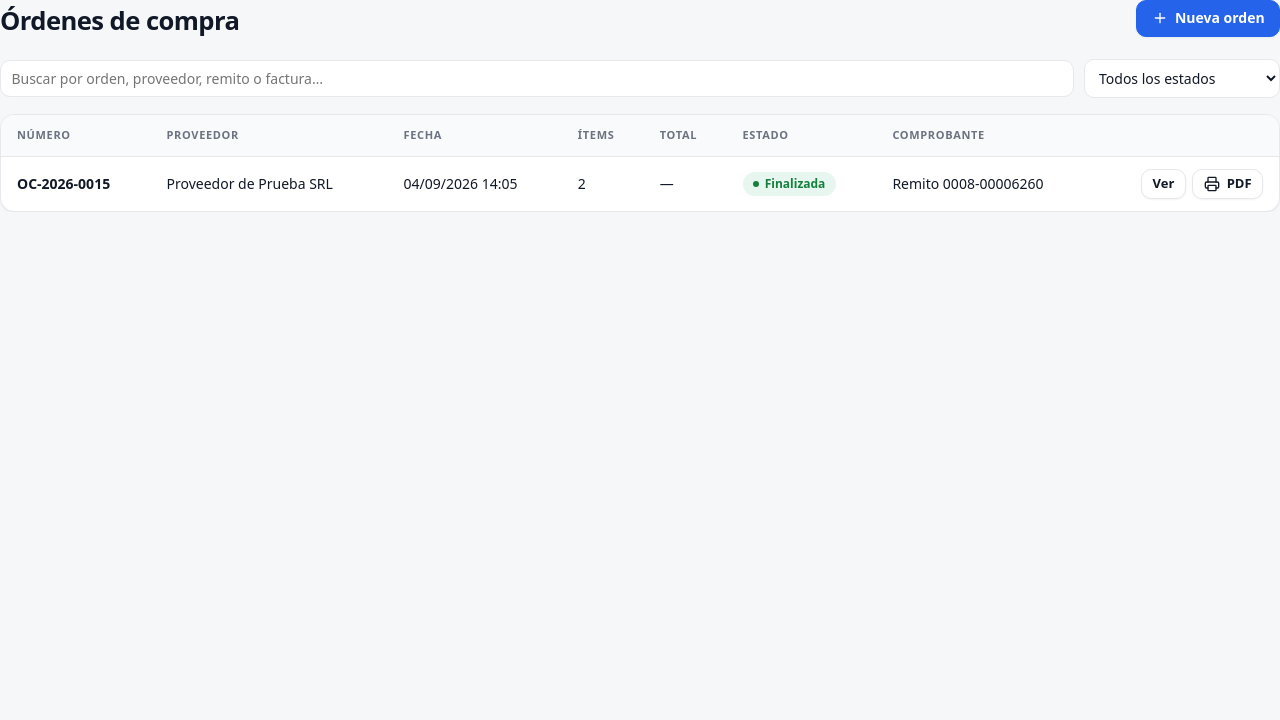
Test: OrdenesCompraPage — cargar un precio que faltó, con la orden ya recibida › sin el permiso de editar órdenes, no se ofrece
The width and height of the screenshot is (1280, 720).
Click the button "Ver" at (1164, 184), box [1141,169,1186,199]
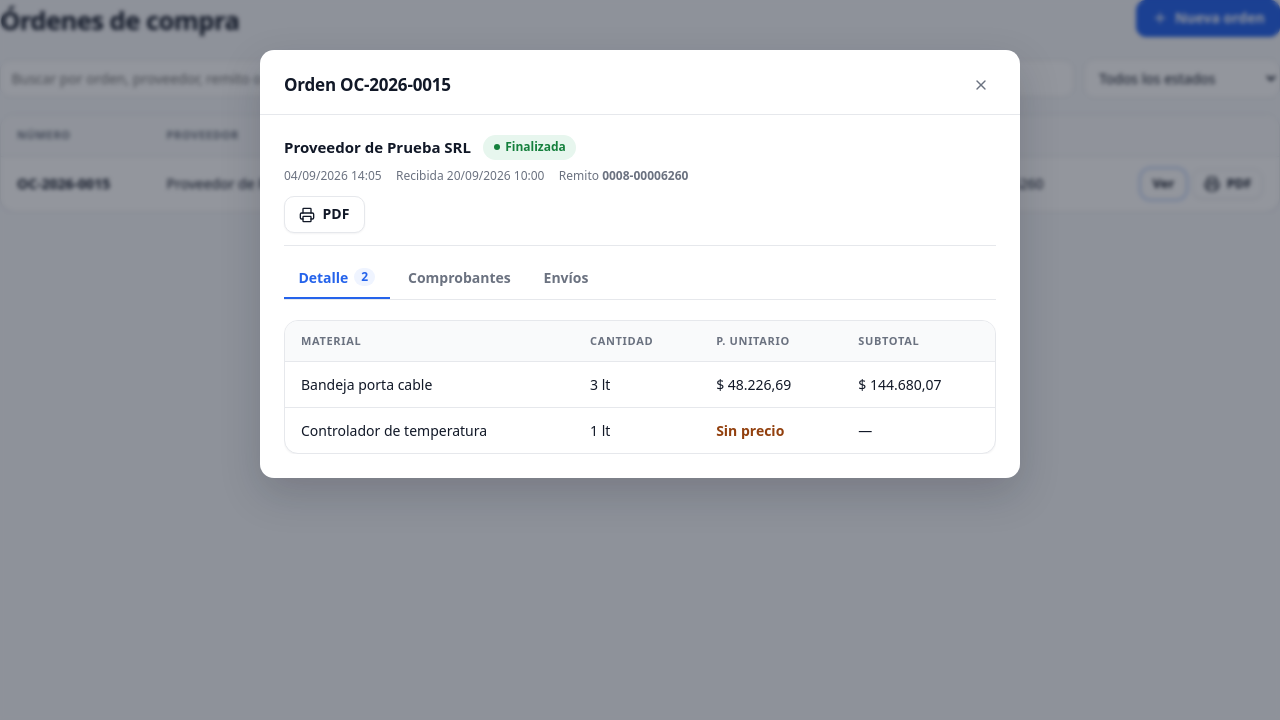
Check: the heading "Orden OC-2026-0015" is shown, box [284,72,451,98]
